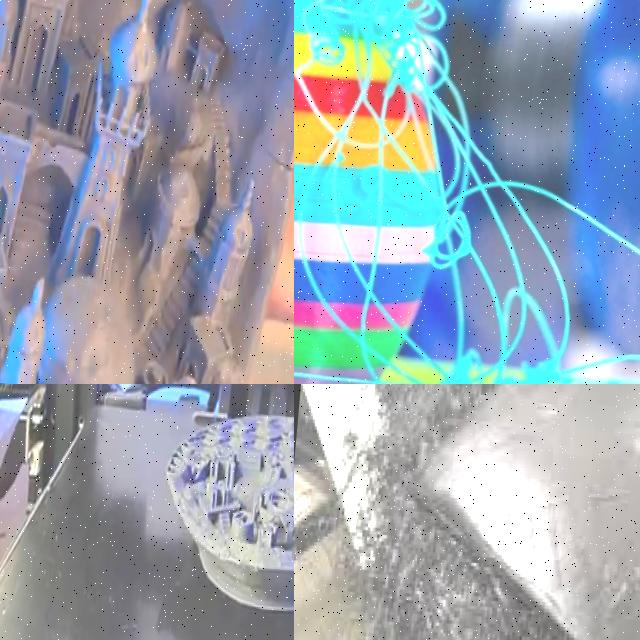spaghetti: (294, 0, 598, 384), (342, 384, 640, 640)
